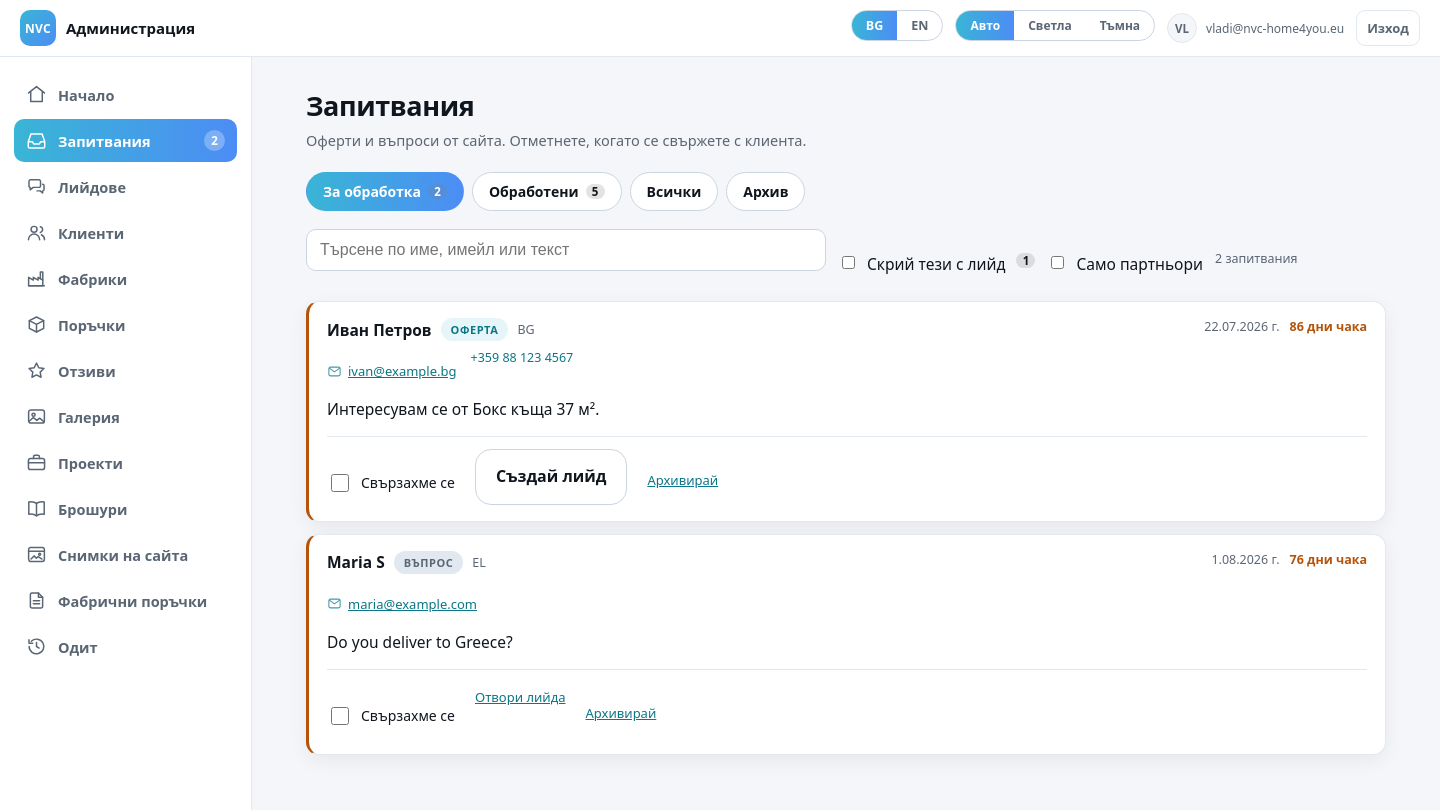
Test case: AdminInquiriesPage › puts the checkbox back when the save fails
The width and height of the screenshot is (1440, 810).
expect the text "Иван Петров" is shown: met, box [327,318,432,340]
Click the checkbox labelled "Свързахме се" below "Иван Петров" at (340, 483), box [331,474,349,492]
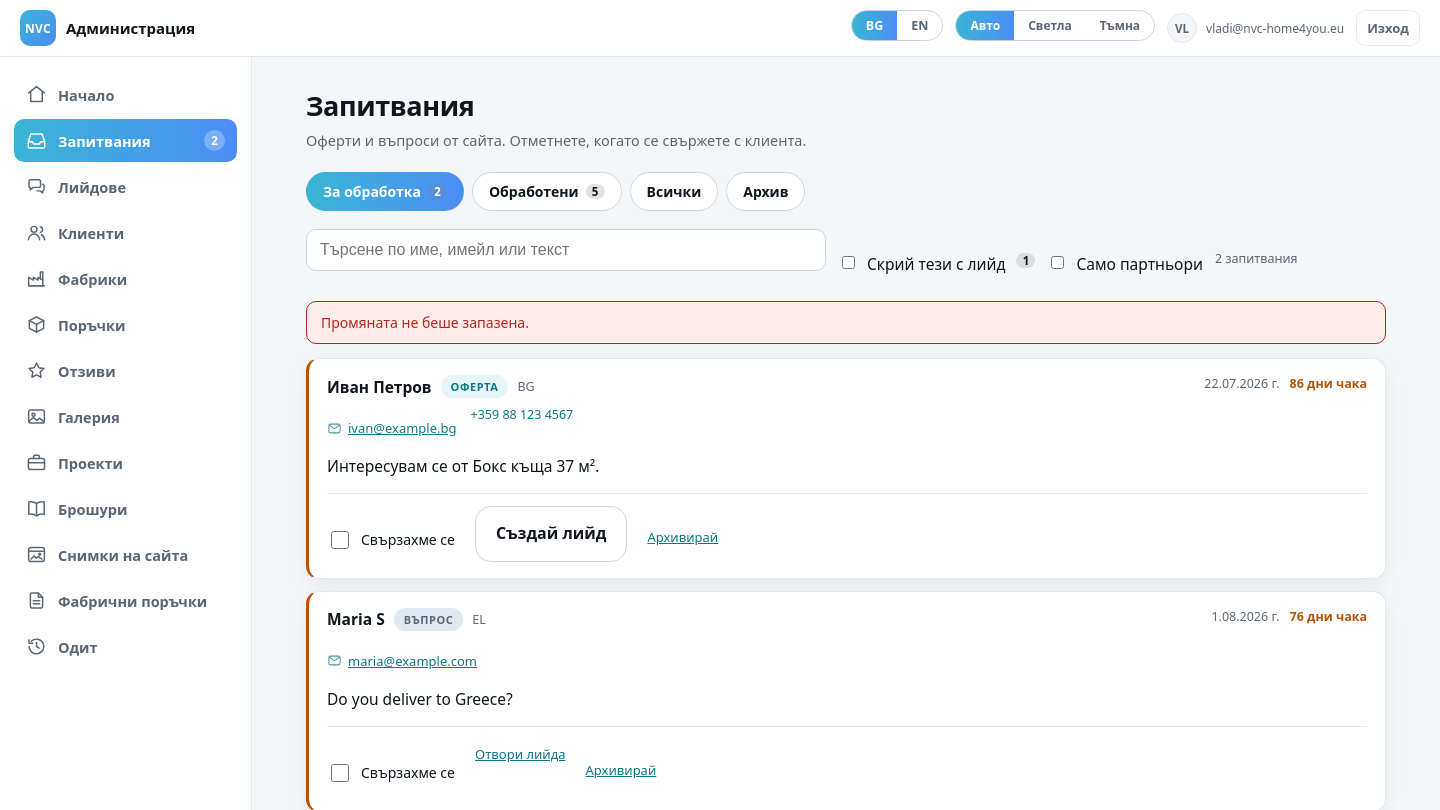
expect the checkbox labelled "Свързахме се" below "Иван Петров" is not checked: met, box [331,531,349,549]
expect the text "Промяната не беше запазена." is shown: met, box [306,301,1386,344]
